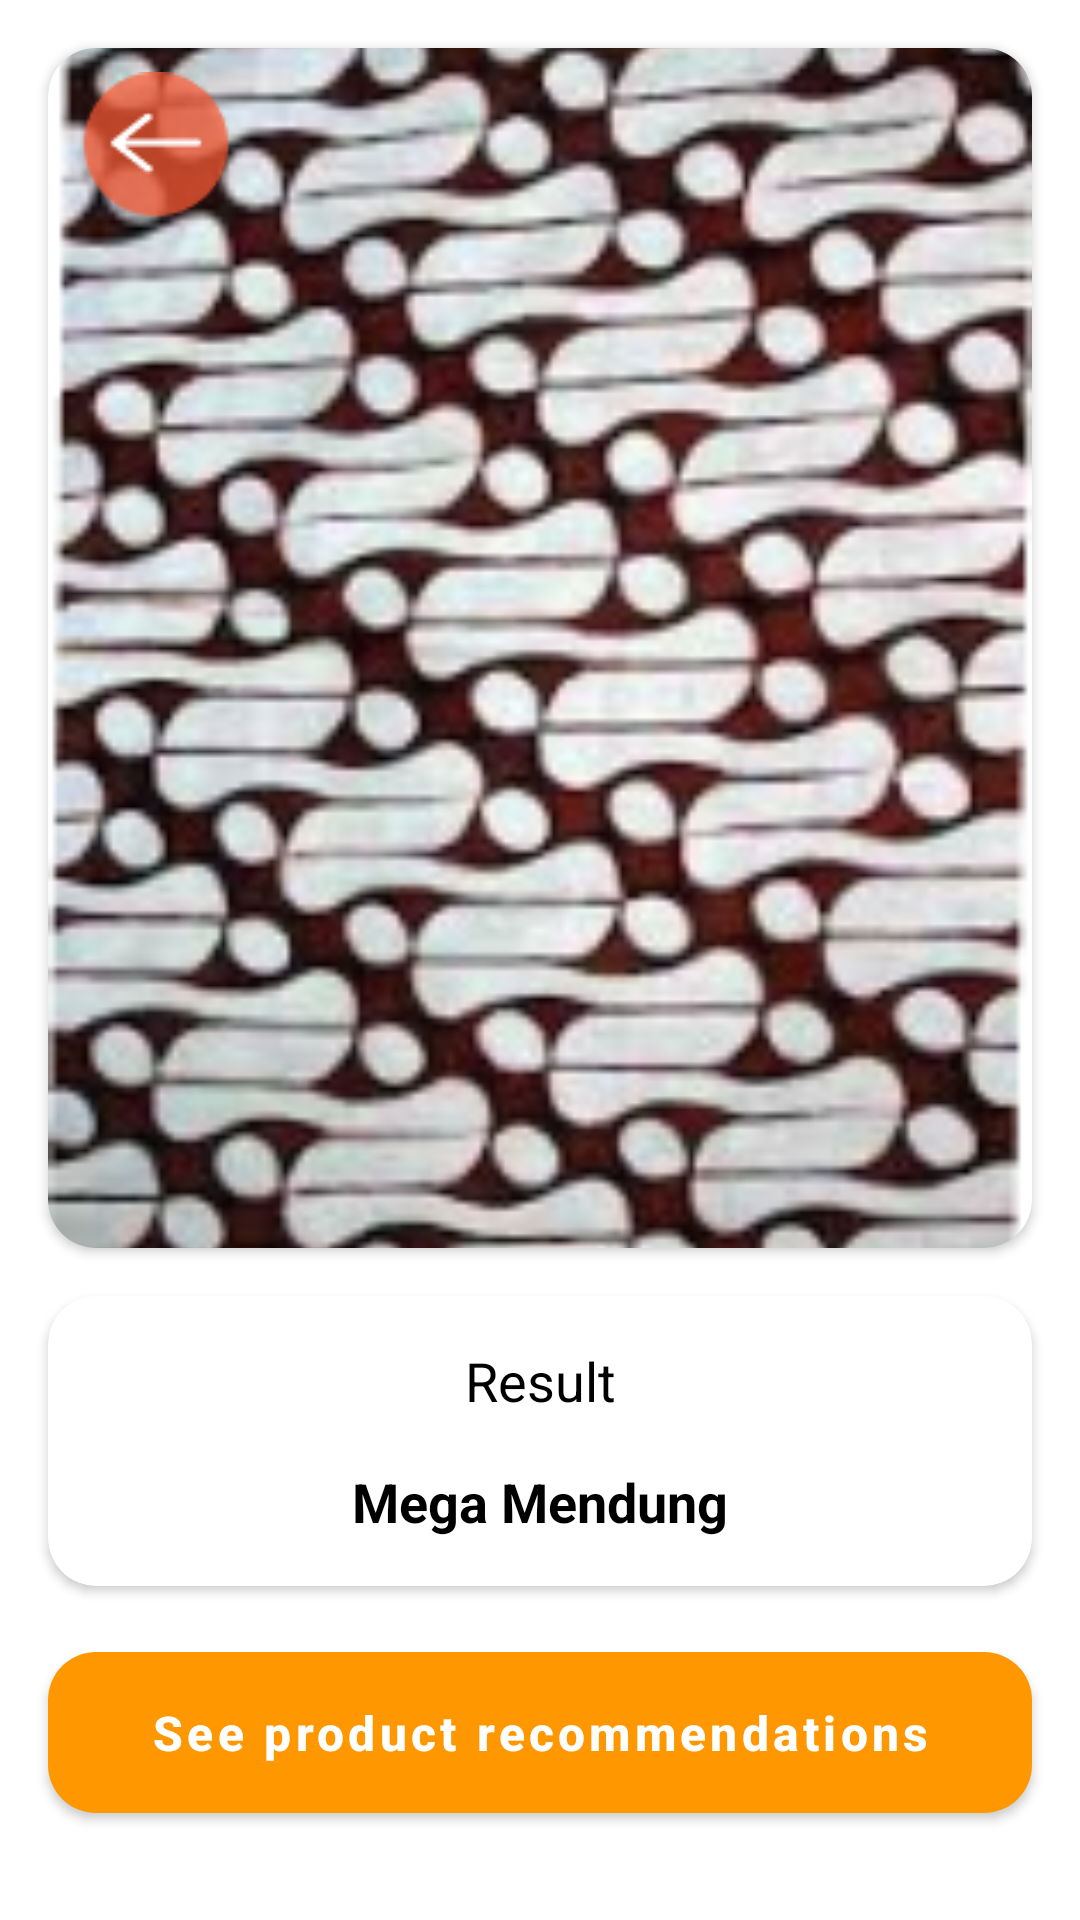

Icons on this 1080px×1920px Android screen, each with the point to tap as point (x, y):
Back Button: point (156, 156)
